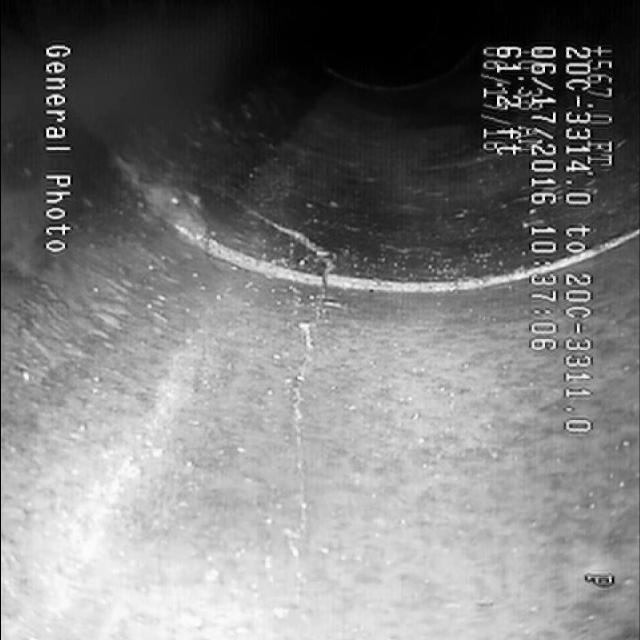Crack: (236, 280, 356, 550)
